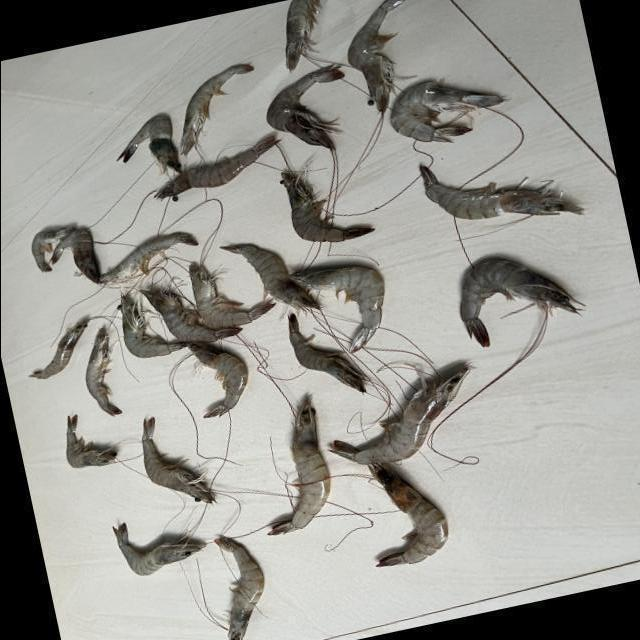shrimp: (331, 366, 474, 465), (460, 260, 581, 347), (419, 165, 584, 219), (267, 398, 329, 536), (368, 464, 447, 568), (289, 267, 383, 353), (153, 135, 279, 199), (389, 81, 508, 142), (179, 63, 252, 155), (279, 171, 373, 241), (265, 64, 343, 148), (219, 245, 319, 309), (140, 418, 213, 504), (347, 0, 403, 112), (287, 313, 365, 393), (187, 263, 275, 328), (138, 289, 240, 342), (98, 232, 196, 285), (213, 537, 263, 640), (111, 524, 204, 576), (186, 343, 247, 418), (116, 295, 186, 358), (116, 114, 180, 173), (26, 319, 88, 379), (84, 328, 120, 416), (49, 228, 99, 284), (64, 415, 116, 468), (284, 0, 319, 70), (30, 226, 72, 272)
